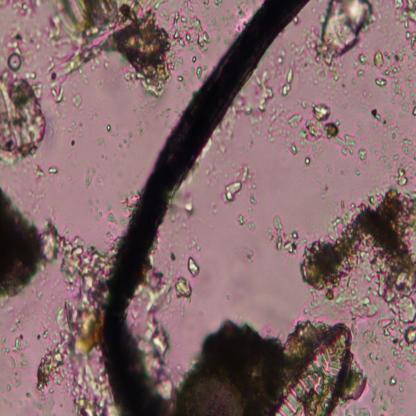Background material: (302, 187, 416, 358), (37, 217, 119, 415), (49, 0, 169, 104), (193, 311, 282, 403), (285, 98, 370, 176), (298, 0, 377, 79), (128, 267, 176, 394), (0, 48, 47, 163), (0, 183, 42, 306), (351, 48, 416, 116), (170, 5, 210, 83), (0, 311, 30, 394), (5, 0, 45, 56), (367, 358, 409, 410), (264, 213, 306, 263), (118, 102, 160, 149), (247, 74, 282, 127), (383, 137, 416, 188), (86, 195, 122, 238), (201, 124, 241, 162), (223, 165, 261, 202), (392, 0, 416, 49), (174, 258, 200, 299), (236, 193, 257, 233), (371, 110, 396, 137), (174, 191, 197, 215), (279, 66, 295, 99), (68, 118, 88, 144), (121, 191, 138, 220), (30, 166, 59, 179), (82, 166, 96, 190), (92, 134, 107, 152), (71, 93, 86, 110), (241, 245, 254, 262)
Cotton: (107, 0, 312, 415)
Diatom: (272, 320, 352, 415), (175, 368, 248, 416)
